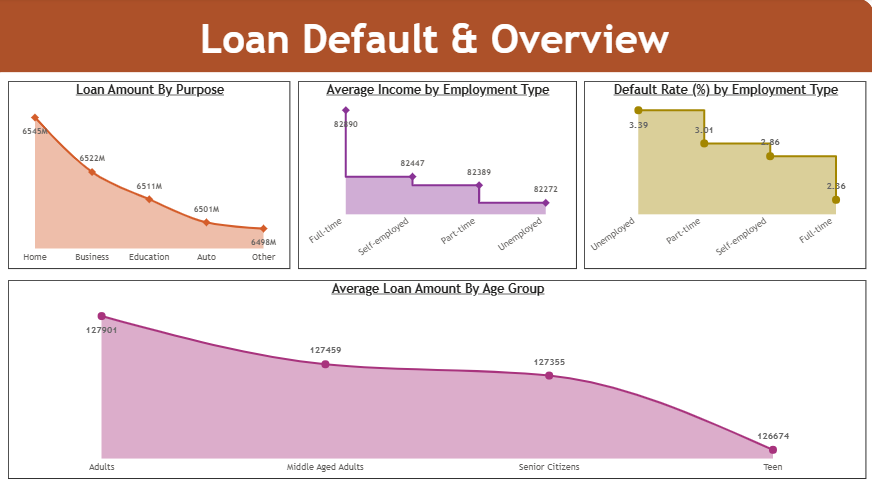

This screenshot's page, from the dashboard's own definition file:
{"tool":"powerbi","page":{"name":"Loan Default Overview","canvas":[1280,720],"ordinal":0},"visuals":[{"type":"shape","box":[0,0,1280,109.2],"z":0},{"type":"lineChart","title":"Loan Amount By Purpose","fields":{"Y":["Measures Table 1.Loan Amount By Purpose"],"Category":["Loan_default.LoanPurpose"]},"box":[11.8,122.1,413.4,275.1],"z":1000},{"type":"lineChart","title":"Average Income by Employment Type","fields":{"Y":["Measures Table 1.Average Income By Employment Type"],"Category":["Loan_default.EmploymentType"]},"box":[436.2,122.1,407.5,275.1],"z":2000},{"type":"lineChart","title":"Default Rate (%) by Employment Type","fields":{"Y":["Measures Table 1.Default Rate by Employment Type"],"Category":["Loan_default.EmploymentType"]},"box":[854.8,122.1,413.4,275.1],"z":3000},{"type":"lineChart","title":"Average Loan Amount By Age Group","fields":{"Y":["Measures Table 1.Average Loan By Age Group"],"Category":["Loan_default.Age Group"]},"box":[11.8,412,1256.5,291.3],"z":4000}]}

Visuals, with their boxes in screenshot pixels (x1, y1, x2, y2), scaled from the page's 1280x720 canvas onto the 872x488 screenshot:
shape: Rect(0, 0, 871, 74)
"Loan Amount By Purpose" lineChart: Rect(8, 83, 290, 269)
"Average Income by Employment Type" lineChart: Rect(297, 83, 575, 269)
"Default Rate (%) by Employment Type" lineChart: Rect(582, 83, 864, 269)
"Average Loan Amount By Age Group" lineChart: Rect(8, 279, 864, 477)
